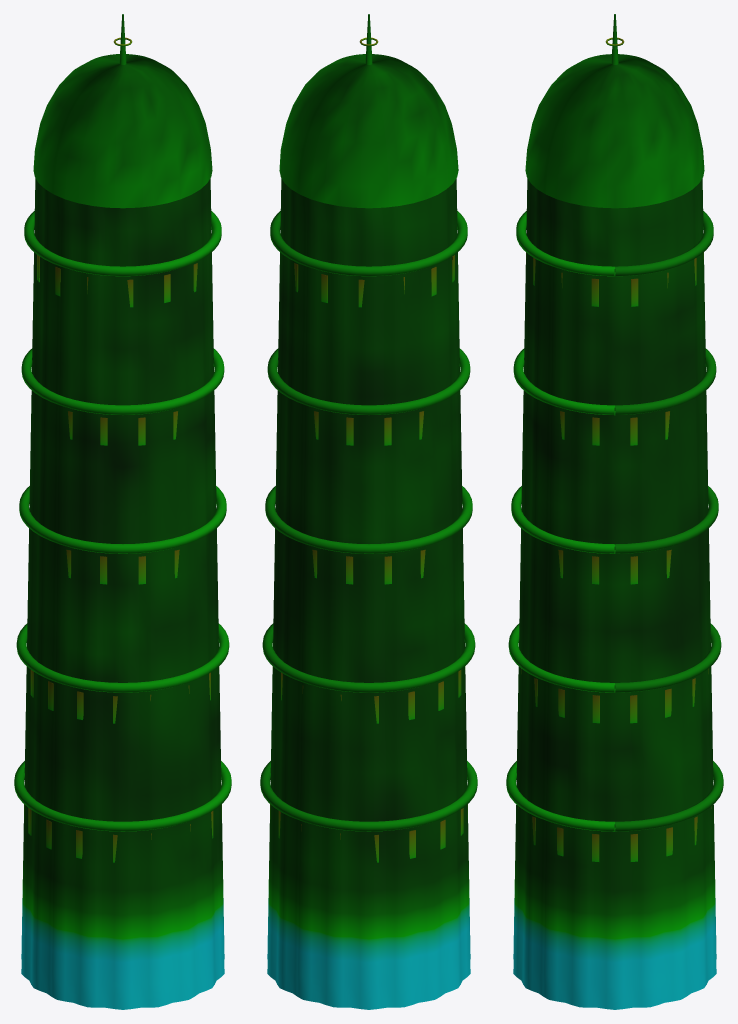
Rendered from iskarra_tower_spire.glb.
3 views of the same model, side by side, from view 1: azimuth 30°, elevation 25°; view 2: azimuth 150°, elevation 25°; view 3: azimuth 270°, elevation 25° (orthographic).
Visible parts, largest first — view 1: iskarra_tower_spire; view 2: iskarra_tower_spire; view 3: iskarra_tower_spire.
Boxes of the visible parts, box(x1,y1,x2,y2) form: iskarra_tower_spire: box(14, 14, 231, 1009); iskarra_tower_spire: box(260, 14, 477, 1009); iskarra_tower_spire: box(506, 14, 723, 1009).
Size of what is drawn, in the model's own units: 12.87 by 62.2 by 12.87.
